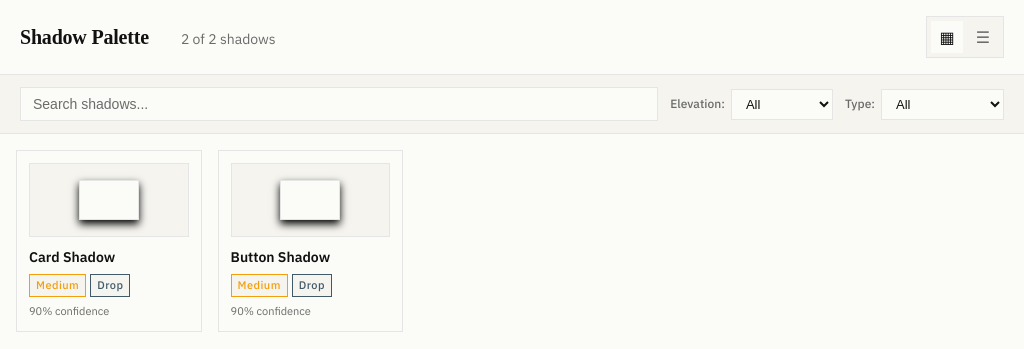
Test: ShadowPalette › Search › should clear search when clear button clicked
Type "test" into the field with placeholder "Search shadows..." at {"x": 339, "y": 104}, box top-left (20, 87), bottom-right (658, 121)
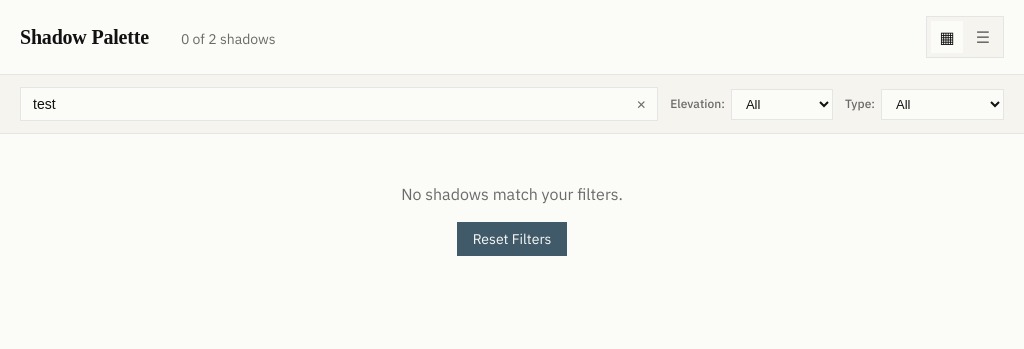
Click the button with class "clear-search" at {"x": 641, "y": 104}, box top-left (632, 92), bottom-right (650, 116)
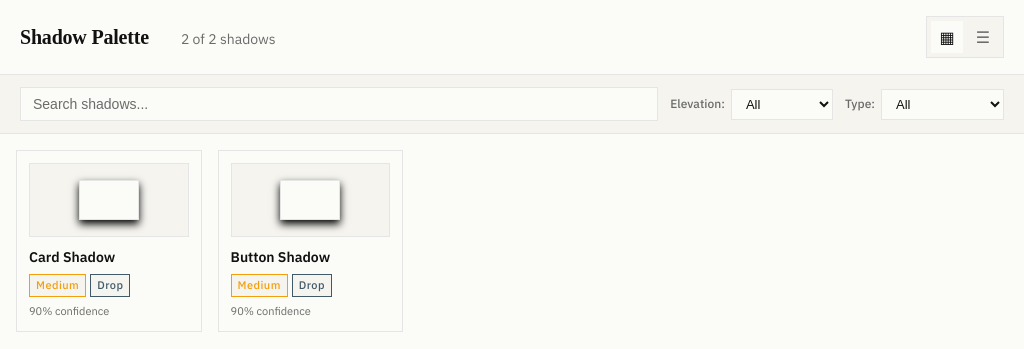
Check: the field with placeholder "Search shadows..." is empty, box top-left (20, 87), bottom-right (658, 121)
